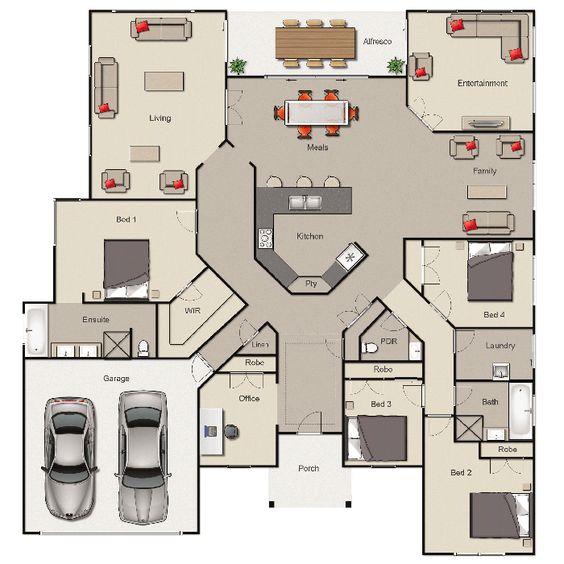room: (88, 8, 229, 141), (404, 8, 535, 133), (53, 197, 169, 304), (404, 236, 535, 328), (421, 457, 535, 554), (454, 379, 536, 442)
